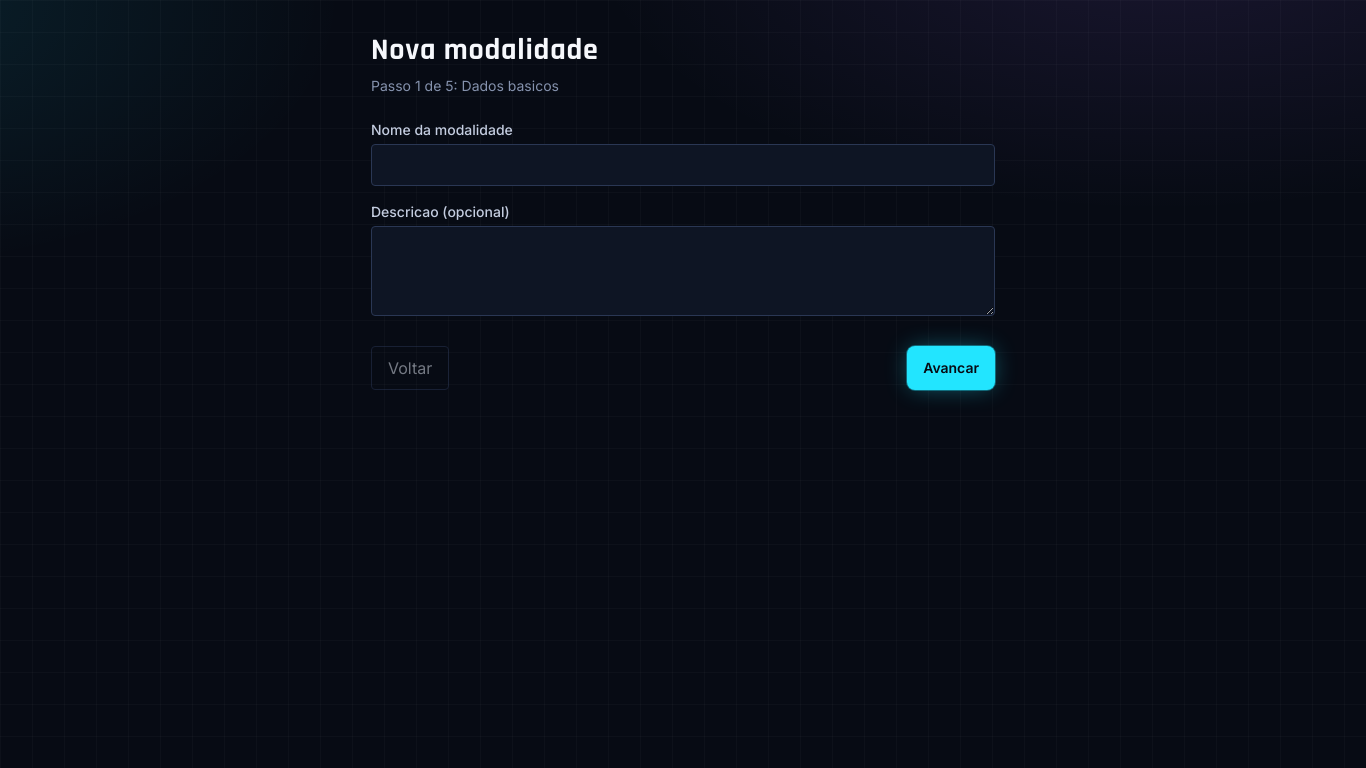
ModalidadeWizardPage - criacao › oferece ABSOLUTO e Nível 1 como niveis separados
The image size is (1366, 768).
Type "Sumo de Robos" into the field labelled "Nome da modalidade".
click(683, 165); type("Sumo de Robos")  # box x1=371 y1=144 x2=995 y2=186
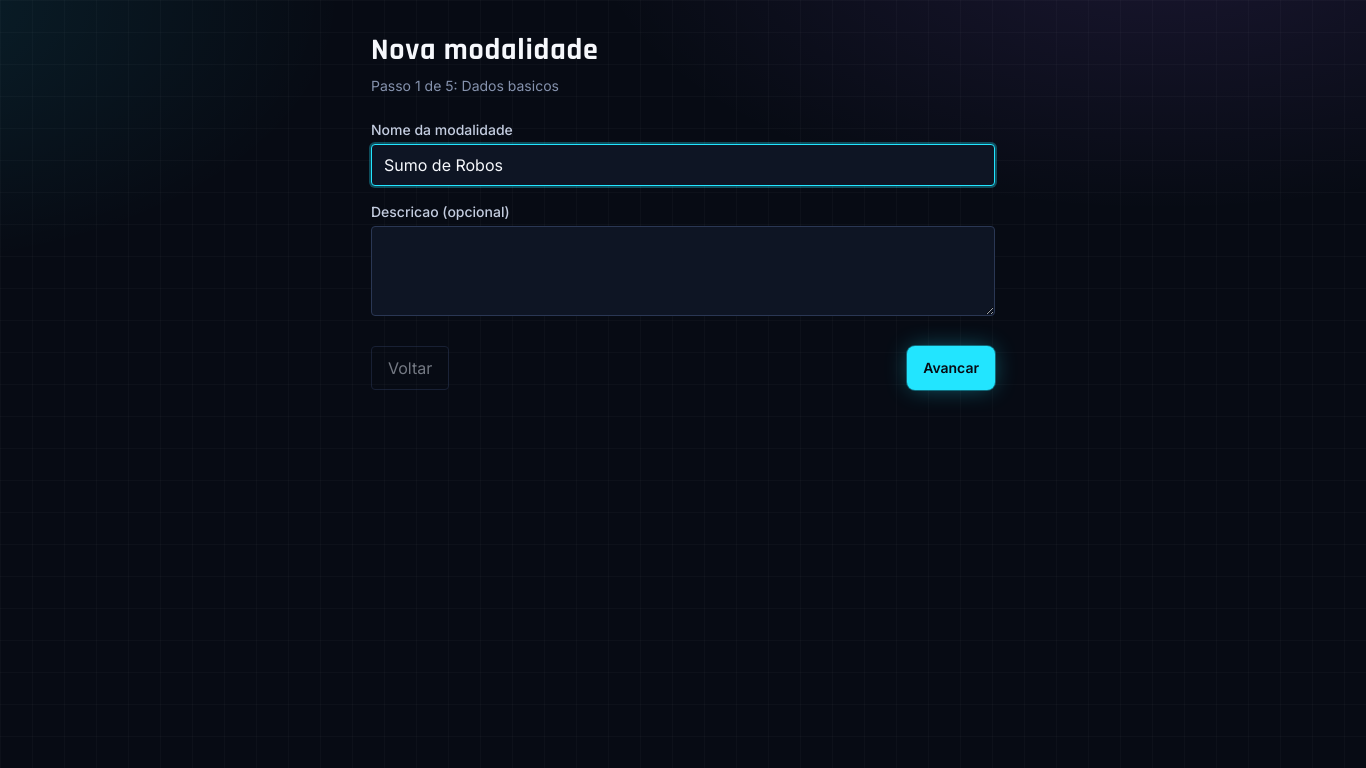
Click the button "Avancar".
click(951, 368)  # box x1=907 y1=346 x2=995 y2=390
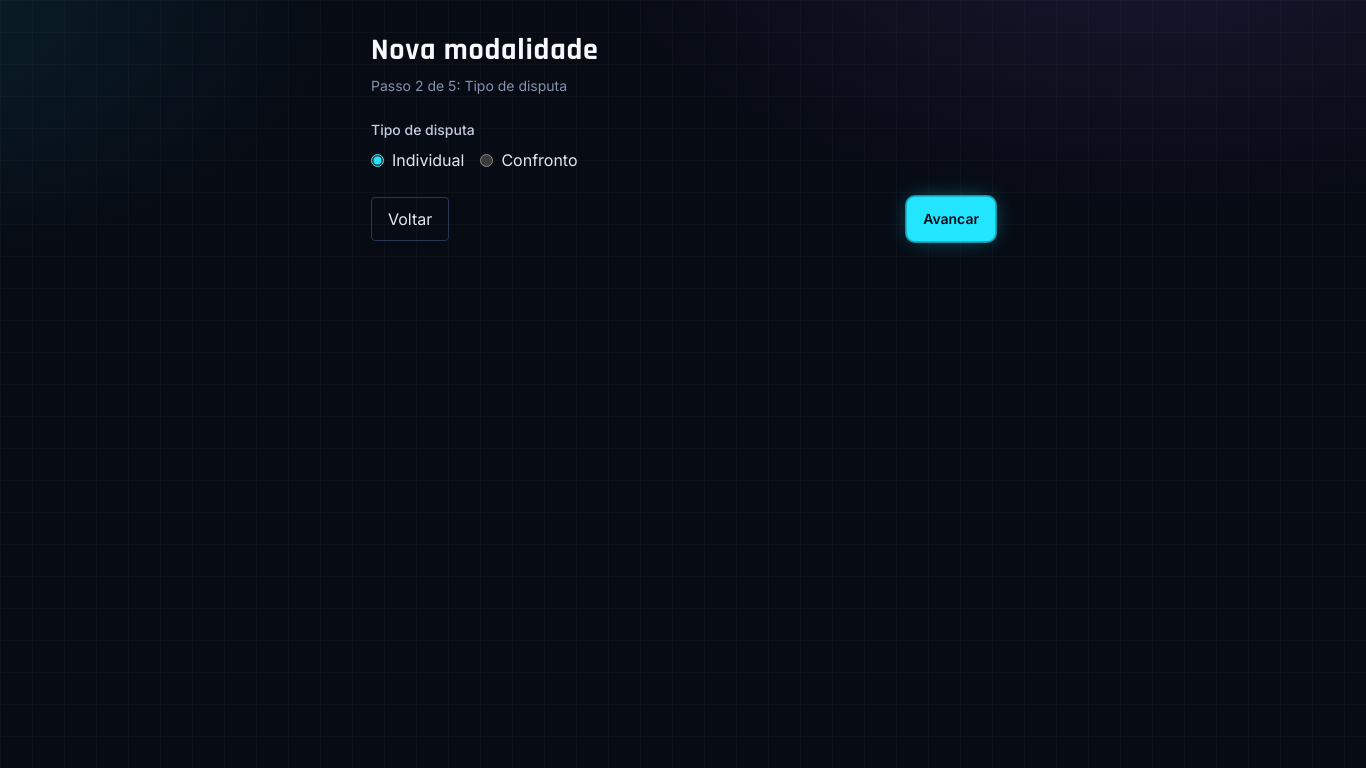
Click the radio button labelled "Confronto".
click(487, 160)  # box x1=480 y1=154 x2=493 y2=166
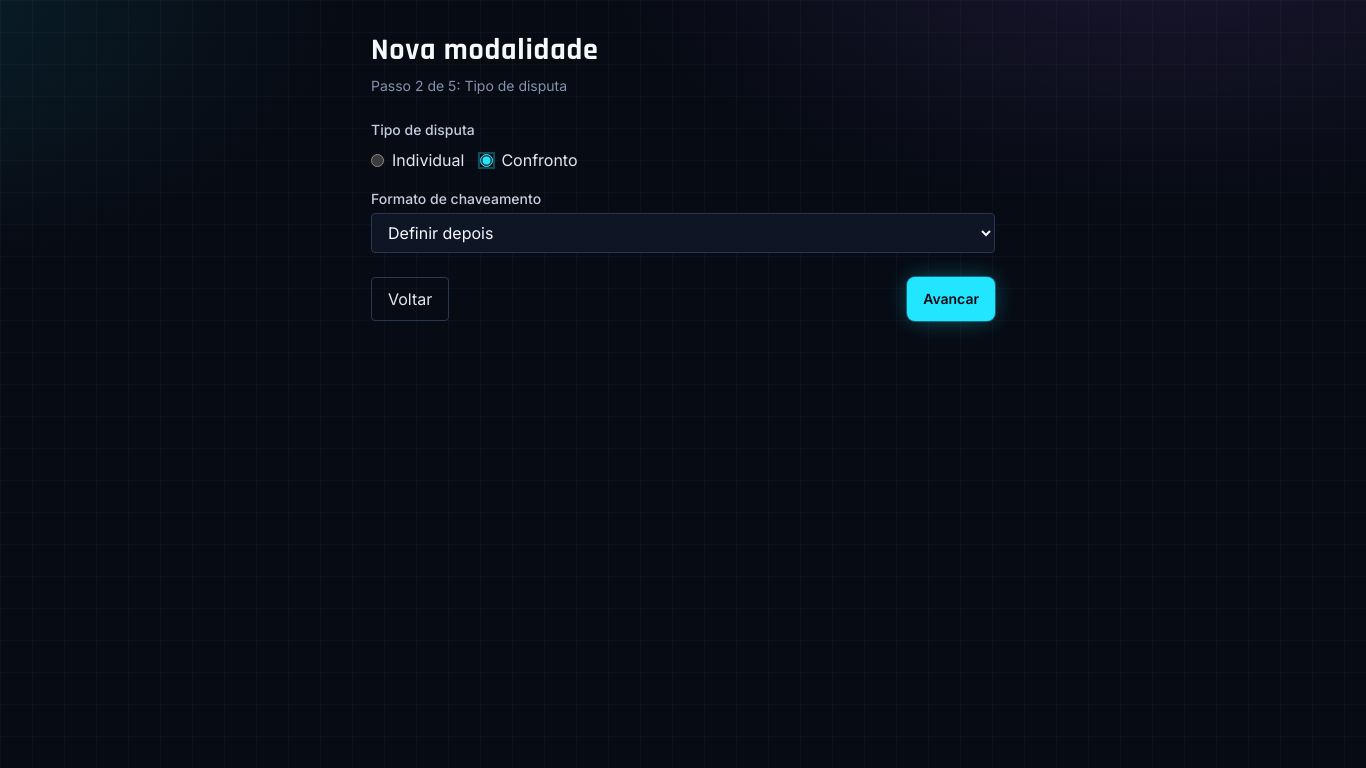
Click the button "Avancar".
click(951, 298)  # box x1=907 y1=276 x2=995 y2=320
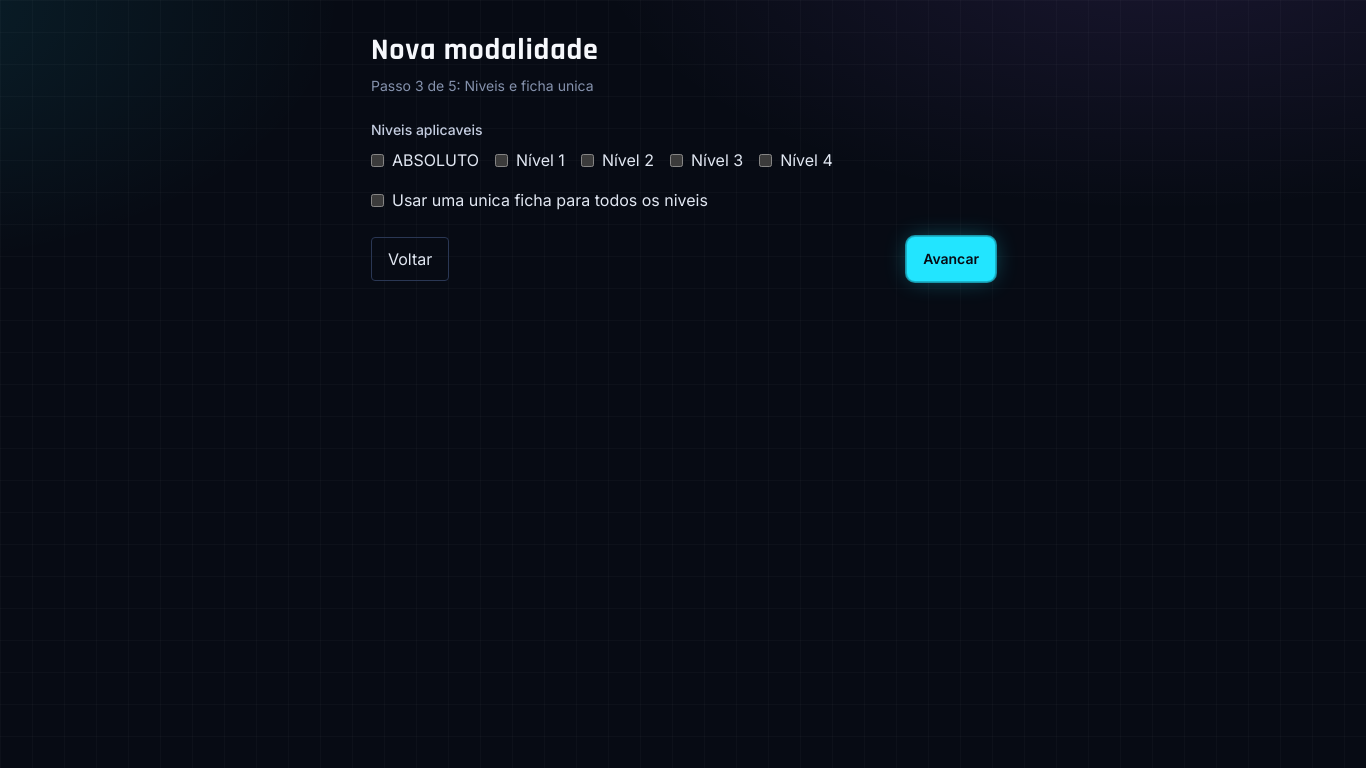
expect the checkbox labelled "ABSOLUTO" is shown: met, box x1=371 y1=154 x2=384 y2=166
expect the checkbox labelled "Nível 1" is shown: met, box x1=495 y1=154 x2=508 y2=166
